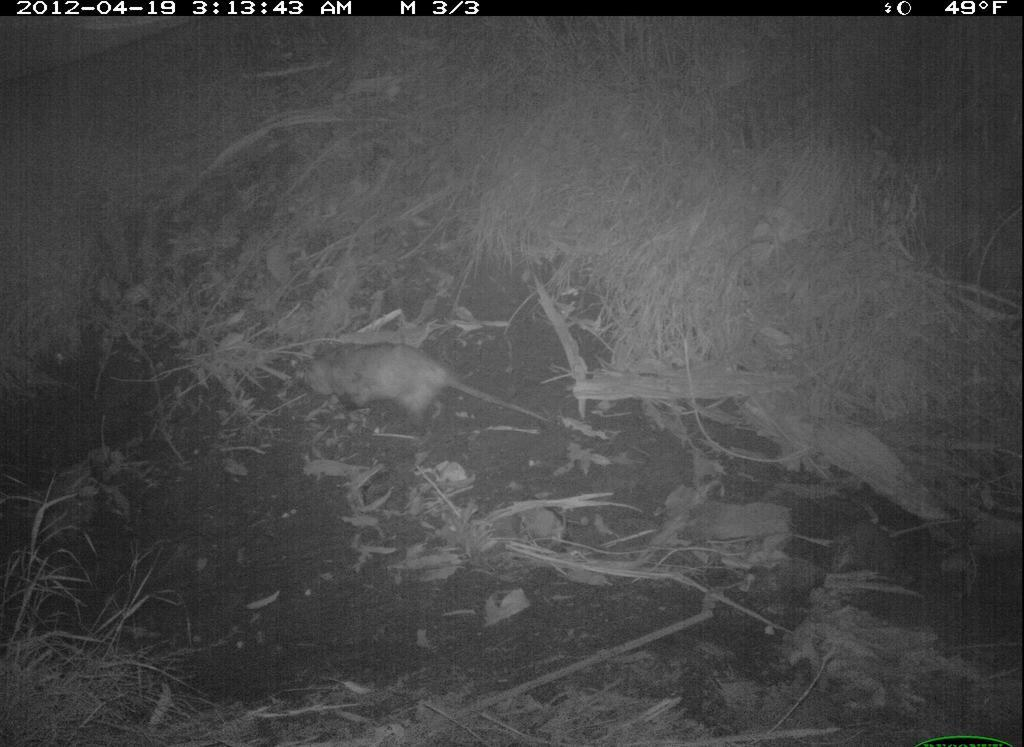opossum: (274, 321, 568, 450)
